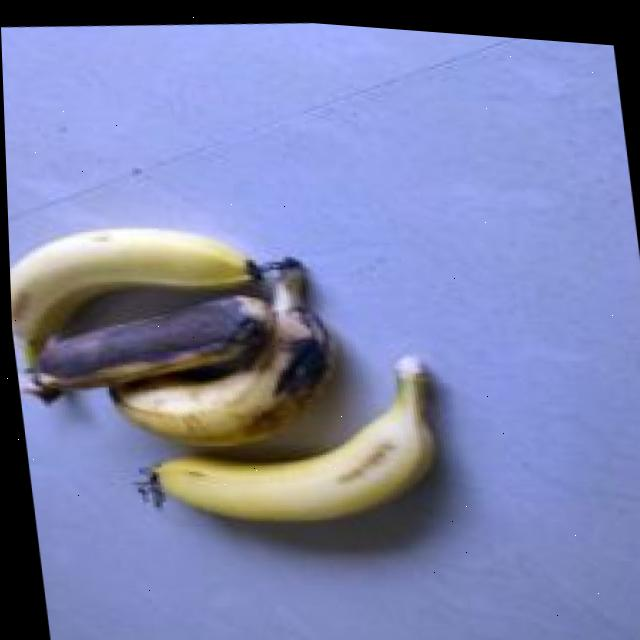Wet: (89, 232, 345, 464), (8, 272, 287, 421)
